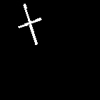single_crochet: (18, 4, 40, 44)
